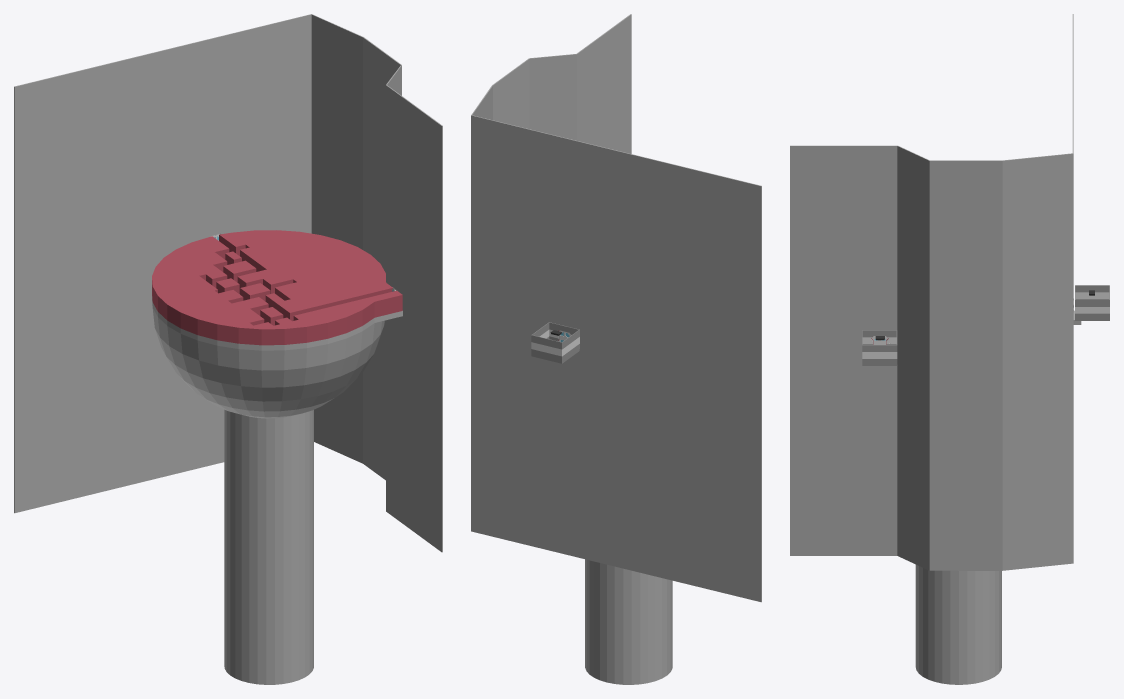
File: Segap 01 14 Maze 01.2.fbx
The picture shows the model from 3 angles, left to right: view 1: azimuth 30°, elevation 25°; view 2: azimuth 150°, elevation 25°; view 3: azimuth 270°, elevation 25°; orthographic projection. The views are drawn at different scales.
Parts seen in each view (by area): view 1: Plane.031, Sphere.011, Plane.028; view 2: Plane.031, Sphere.011, Plane.026; view 3: Plane.031, Sphere.011, Plane.026, Plane.029.
Part boxes in pixels (x1=…): Plane.031: x1=14, y1=14, x2=442, y2=552; Sphere.011: x1=152, y1=296, x2=402, y2=684; Plane.028: x1=152, y1=230, x2=402, y2=345; Plane.031: x1=471, y1=14, x2=761, y2=602; Sphere.011: x1=585, y1=559, x2=672, y2=684; Plane.026: x1=531, y1=322, x2=579, y2=363; Plane.031: x1=790, y1=14, x2=1073, y2=570; Sphere.011: x1=915, y1=310, x2=1081, y2=684; Plane.026: x1=1075, y1=285, x2=1109, y2=320; Plane.029: x1=862, y1=330, x2=897, y2=365.
Bounding box in the file's own units: 6148 × 11100 × 5658.
